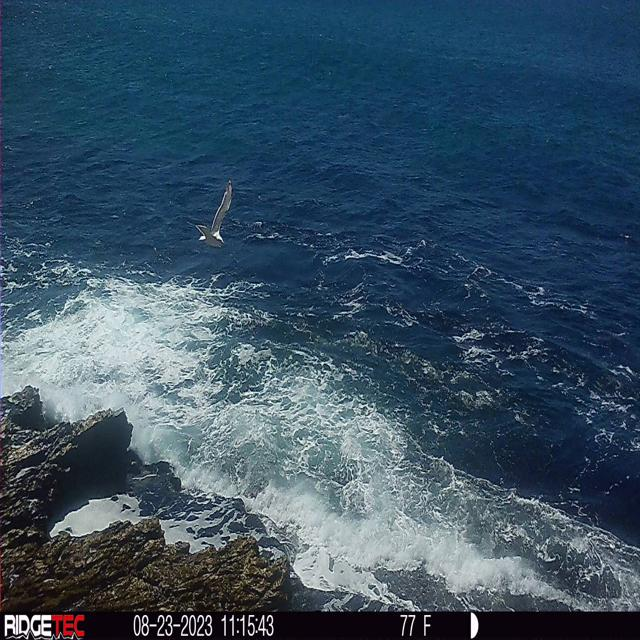bird: (192, 178, 233, 247)
